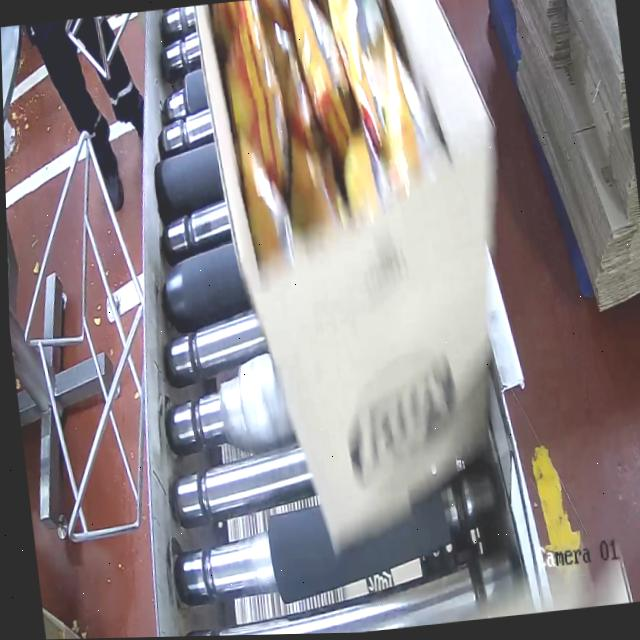FRENCH_CHEESE: (215, 0, 438, 259)
